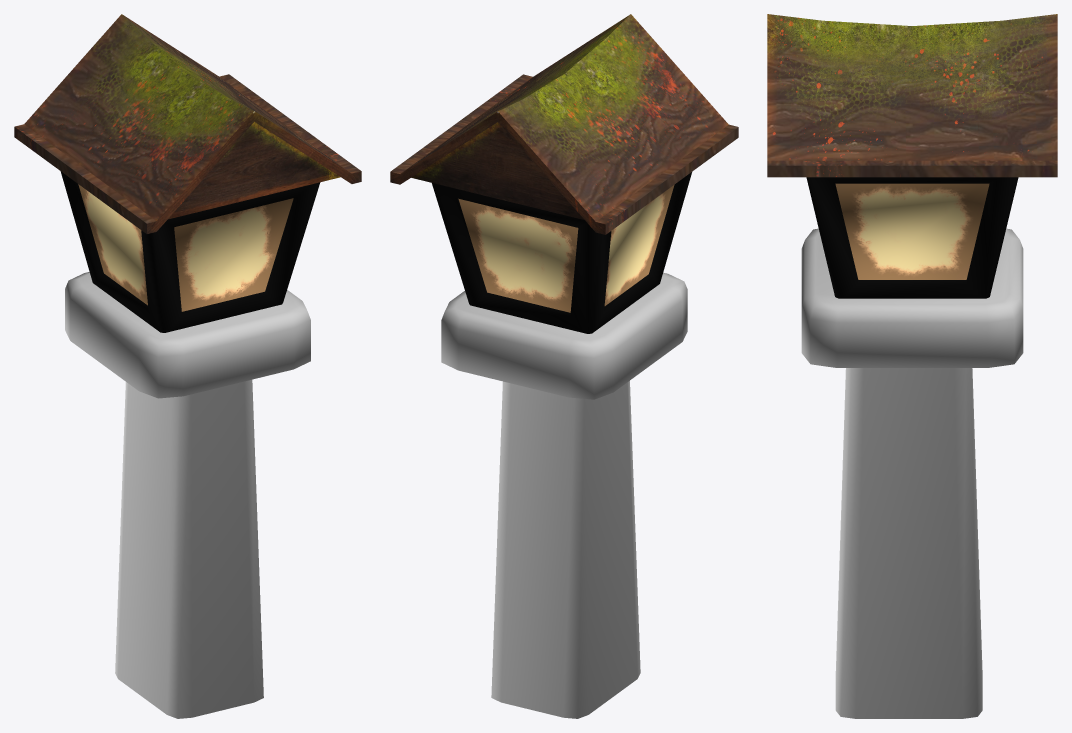
Rendered from Light_ground.FBX.
3 renders of one model, left to right at view 1: azimuth 30°, elevation 25°; view 2: azimuth 150°, elevation 25°; view 3: azimuth 270°, elevation 25°, orthographic. The views are drawn at different scales.
Visible parts, largest first — view 1: Box050, Box049, Box005; view 2: Box050, Box049, Box005; view 3: Box050, Box049, Box005.
Part boxes in pixels (x1,y1,x2,y2): Box050: (65,272,310,718); Box049: (14,14,361,233); Box005: (60,171,320,332); Box050: (441,272,687,718); Box049: (390,14,738,234); Box005: (432,172,691,333); Box050: (801,228,1023,718); Box049: (767,14,1057,177); Box005: (806,177,1018,298).
Size of the model in its own units: 63.79 by 176 by 68.21.
